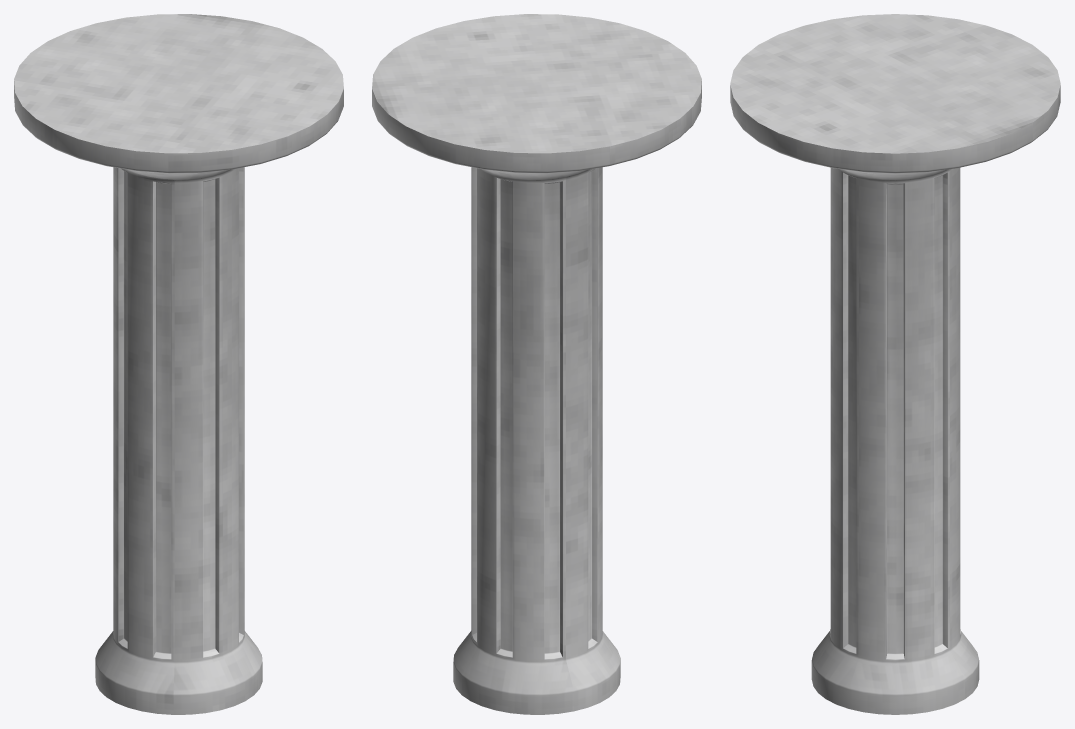
Rendered from Pillar1.fbx.
3 views of the same model, side by side, from view 1: azimuth 30°, elevation 25°; view 2: azimuth 150°, elevation 25°; view 3: azimuth 270°, elevation 25° (orthographic).
Visible parts, largest first — view 1: Pillar1; view 2: Pillar1; view 3: Pillar1.
Boxes of the visible parts, x1,y1,x2,y2 form: Pillar1: (14,14,343,714); Pillar1: (372,14,701,714); Pillar1: (730,14,1060,714).
Size of what is drawn, in the model's own units: 101 by 200 by 101.
